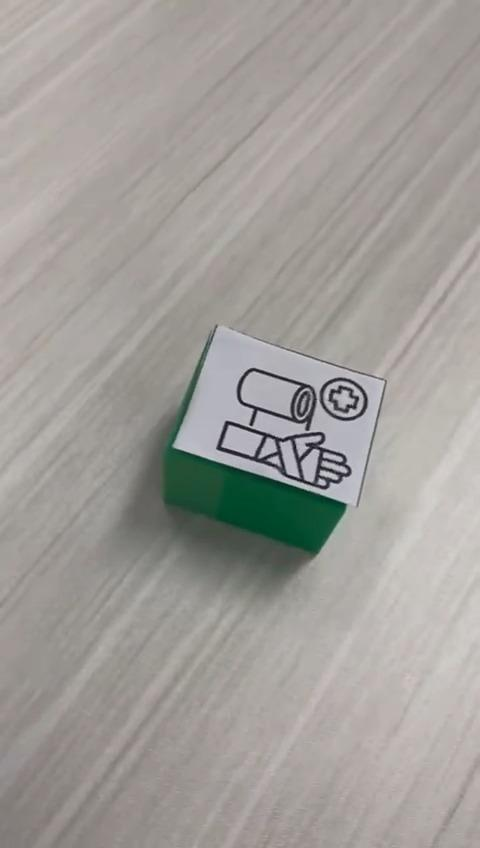Bandages: (166, 323, 388, 552)
